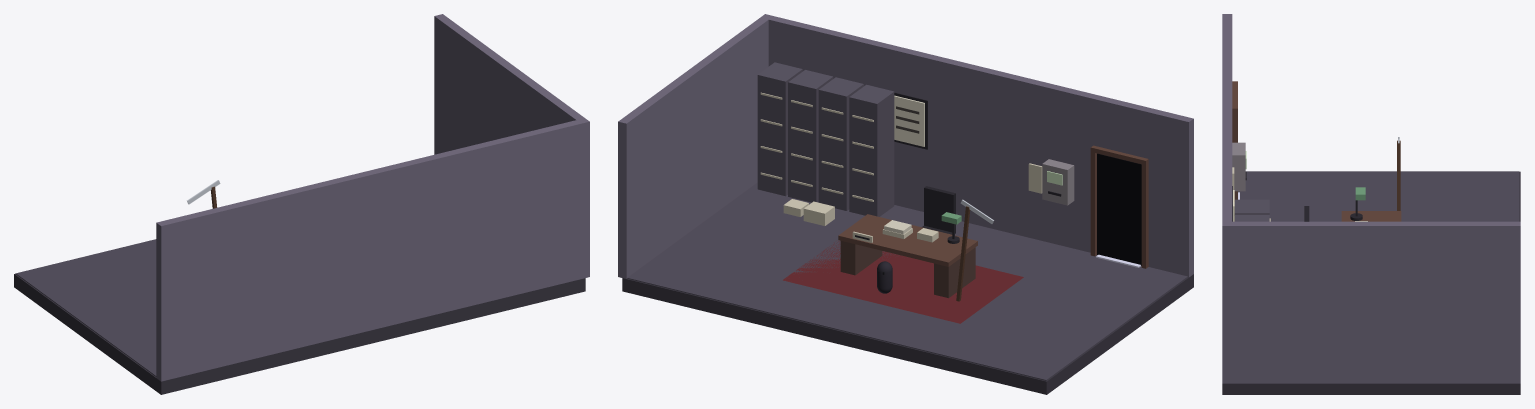
Rendered from level_06.obj.
3 views of the same model, side by side, from view 1: azimuth 30°, elevation 25°; view 2: azimuth 150°, elevation 25°; view 3: azimuth 270°, elevation 25° (orthographic).
Parts seen in each view (by area): view 1: _set; view 2: _set, archive, door, desk, time_clock, form_footer, scythe; view 3: _set, desk, archive, time_clock, door, scythe.
Boxes of the visible parts, x1,y1,x2,y2 form: _set: [14, 14, 589, 394]; _set: [618, 14, 1193, 394]; archive: [757, 62, 894, 225]; door: [1090, 145, 1148, 268]; desk: [838, 212, 977, 298]; time_clock: [1028, 159, 1074, 205]; form_footer: [894, 92, 927, 149]; scythe: [956, 199, 993, 301]; _set: [1222, 14, 1520, 394]; desk: [1341, 187, 1401, 221]; archive: [1235, 199, 1270, 221]; time_clock: [1232, 142, 1246, 191]; door: [1232, 81, 1239, 201]; scythe: [1397, 137, 1400, 210].
Size of the model in its own units: 10.1 by 3.8 by 6.
